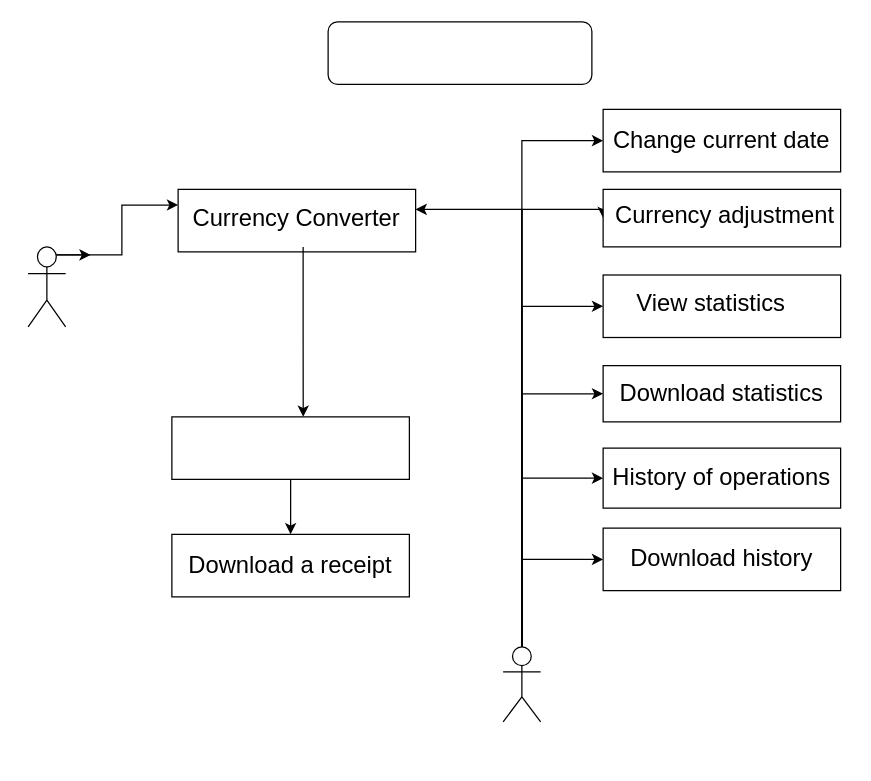
The diagram is 871 pixels wide and 781 high, and some of its shapes have lost their labels. Here are the shapes that lost their labels. From the top down, the centre of each, then its label:
(x=459, y=52): exchange office
(x=46, y=286): User
(x=290, y=447): Issuance of a receipt
(x=521, y=684): Admin / cashier
